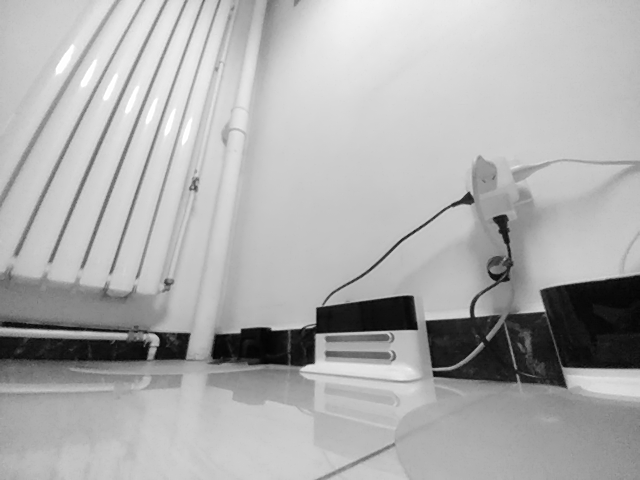Ruby: (298, 294, 433, 387)
TanosV: (539, 272, 640, 403), (237, 325, 272, 364)
